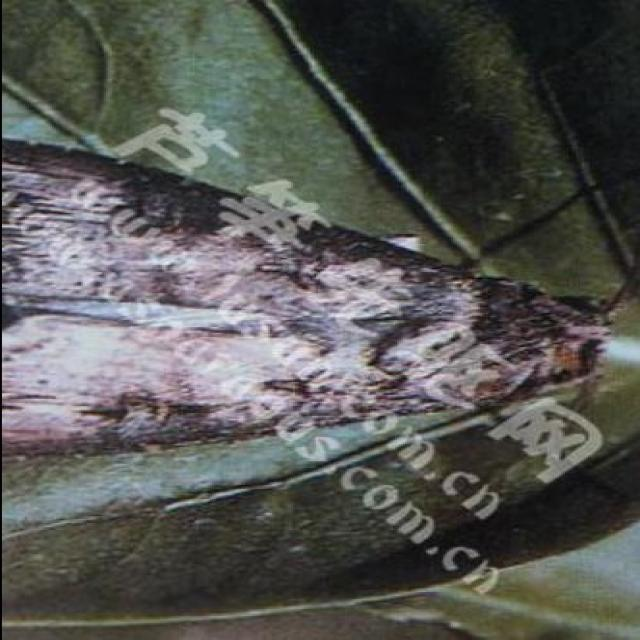black cutworm: (4, 134, 619, 488)
